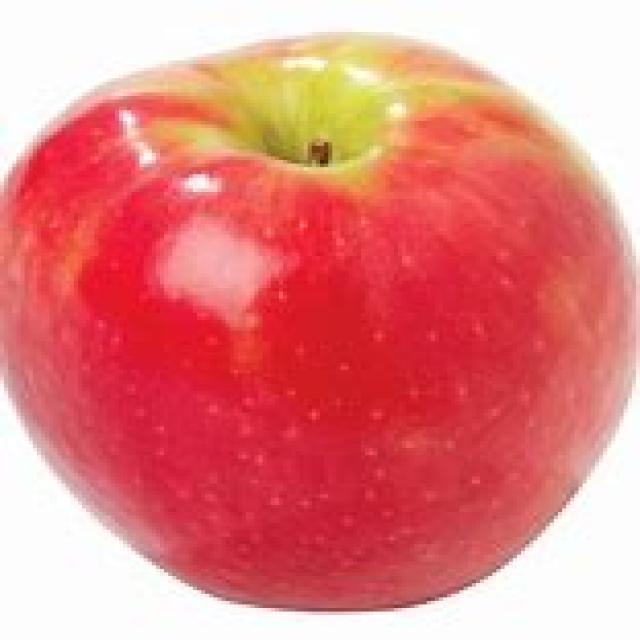apple: (2, 28, 640, 614)
